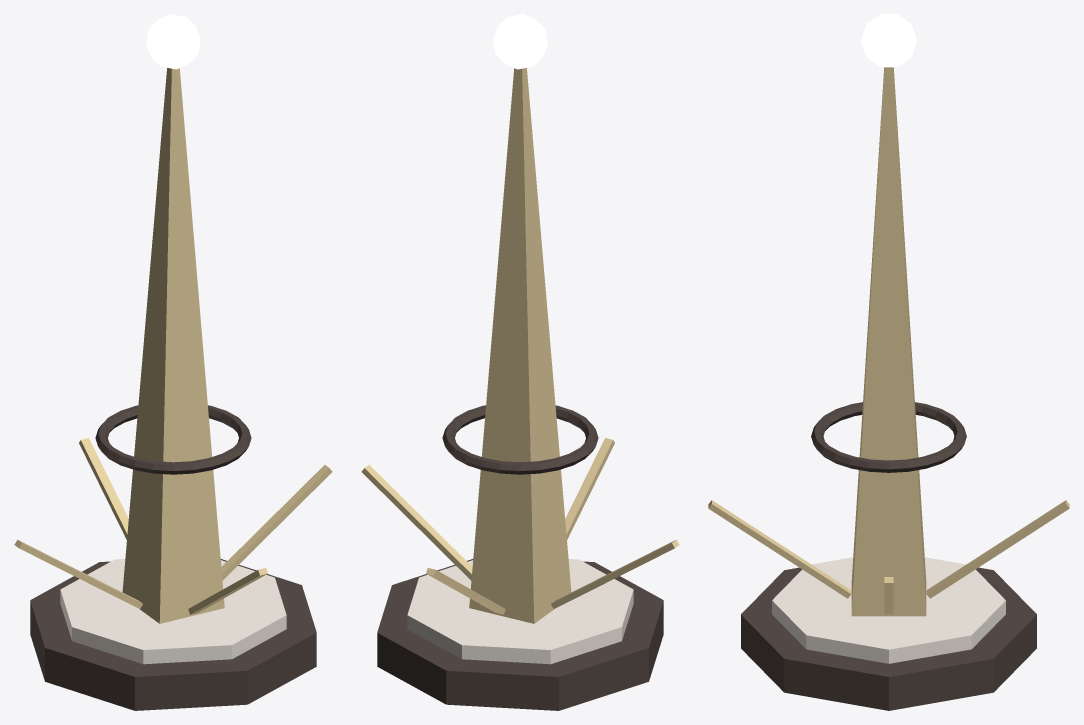
Rendered from source.glb.
3 views of the same model, side by side, from view 1: azimuth 30°, elevation 25°; view 2: azimuth 150°, elevation 25°; view 3: azimuth 270°, elevation 25° (orthographic).
Parts seen in each view (by area): view 1: Cone, Cylinder, Cylinder.001, Torus, Icosphere, Cube, Cube.001, Cube.002, Cube.003; view 2: Cone, Cylinder, Cylinder.001, Torus, Icosphere, Cube, Cube.003, Cube.002, Cube.001; view 3: Cone, Cylinder, Cylinder.001, Torus, Icosphere, Cube.001, Cube.003.
Part boxes in pixels (box(x1,y1,x2,y2)): Cone: box(122, 68, 224, 623); Cylinder: box(30, 559, 316, 710); Cylinder.001: box(60, 559, 286, 664); Torus: box(95, 405, 251, 474); Icosphere: box(146, 14, 200, 69); Cube: box(221, 465, 332, 580); Cube.001: box(79, 438, 128, 539); Cube.002: box(14, 539, 142, 608); Cube.003: box(188, 568, 267, 614); Cone: box(469, 68, 571, 623); Cylinder: box(377, 559, 663, 710); Cylinder.001: box(407, 559, 633, 664); Torus: box(442, 405, 598, 474); Icosphere: box(493, 14, 547, 69); Cube: box(361, 465, 472, 580); Cube.003: box(565, 438, 614, 539); Cube.002: box(551, 539, 679, 608); Cube.001: box(426, 568, 505, 614); Cone: box(851, 67, 926, 616); Cylinder: box(741, 567, 1036, 710); Cylinder.001: box(772, 557, 1005, 663); Torus: box(811, 402, 966, 472); Icosphere: box(861, 14, 916, 67); Cube.001: box(926, 500, 1069, 598); Cube.003: box(708, 500, 851, 598).
Size of the model in its own units: 232 by 448 by 232.
